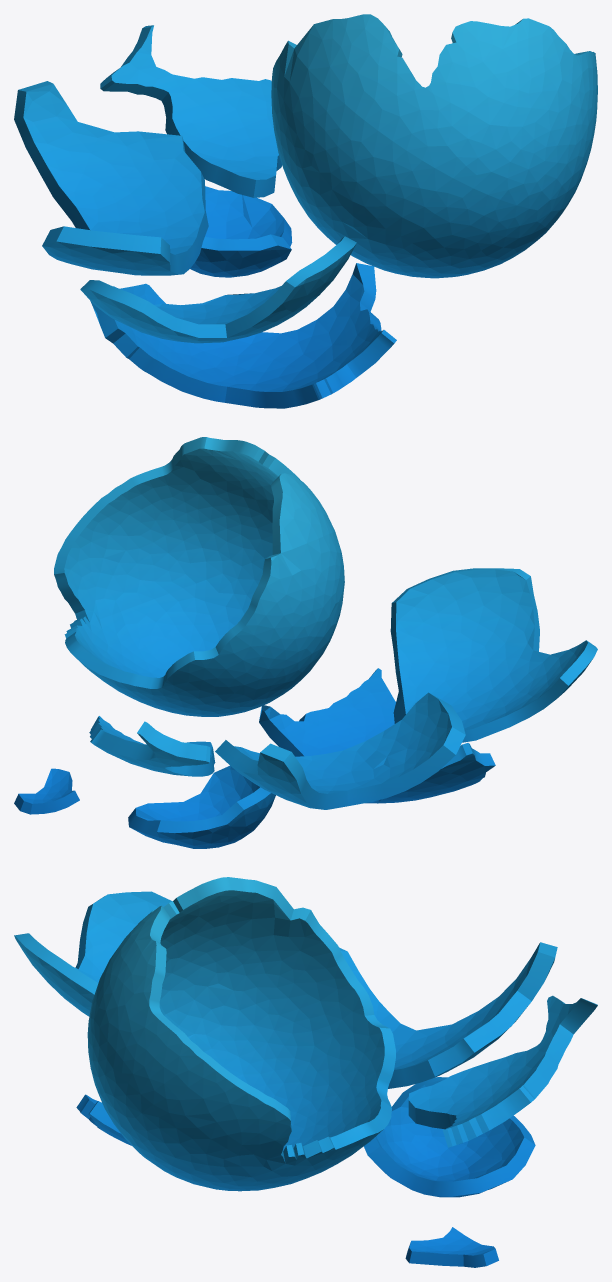
Rendered from SM_Egg_shells.fbx.
3 views of the same model, one above another, from view 1: azimuth 30°, elevation 25°; view 2: azimuth 150°, elevation 25°; view 3: azimuth 270°, elevation 25° (orthographic). The views are drawn at different scales.
Visible parts, largest first — view 1: SM_Egg_shell_5, SM_Egg_shell_4, SM_Egg_shell_1, SM_Egg_shell_6, SM_Egg_shell_7, SM_Egg_shell_3; view 2: SM_Egg_shell_5, SM_Egg_shell_7, SM_Egg_shell_4, SM_Egg_shell_1, SM_Egg_shell_3, SM_Egg_shell_6, SM_Egg_shell_2; view 3: SM_Egg_shell_5, SM_Egg_shell_6, SM_Egg_shell_3, SM_Egg_shell_4, SM_Egg_shell_7, SM_Egg_shell_2, SM_Egg_shell_1.
Part boxes in pixels (box(x1,y1,x2,y2)): SM_Egg_shell_5: box(271, 14, 597, 278); SM_Egg_shell_4: box(14, 81, 208, 275); SM_Egg_shell_1: box(90, 263, 396, 408); SM_Egg_shell_6: box(100, 25, 281, 197); SM_Egg_shell_7: box(80, 236, 356, 343); SM_Egg_shell_3: box(190, 186, 292, 277); SM_Egg_shell_5: box(54, 437, 344, 716); SM_Egg_shell_7: box(390, 568, 597, 742); SM_Egg_shell_4: box(215, 692, 465, 809); SM_Egg_shell_1: box(259, 668, 495, 803); SM_Egg_shell_3: box(128, 766, 275, 848); SM_Egg_shell_6: box(89, 716, 215, 776); SM_Egg_shell_2: box(14, 768, 79, 814); SM_Egg_shell_5: box(87, 877, 395, 1191); SM_Egg_shell_6: box(408, 995, 597, 1147); SM_Egg_shell_3: box(364, 1077, 535, 1197); SM_Egg_shell_4: box(339, 942, 557, 1088); SM_Egg_shell_7: box(14, 891, 171, 1016); SM_Egg_shell_2: box(405, 1227, 498, 1267); SM_Egg_shell_1: box(76, 1094, 131, 1145).
Bounding box in the file's own units: 233 × 137 × 223.
